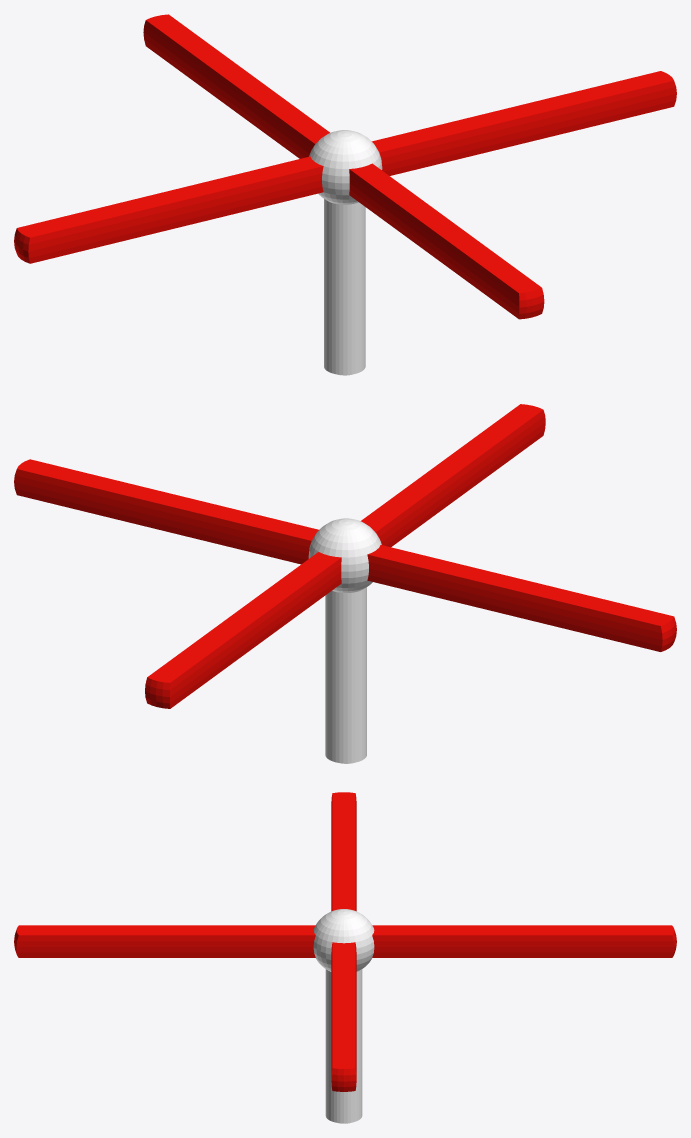
The model's file is lazer (2).fbx.
3 views of the same model, one above another, from view 1: azimuth 30°, elevation 25°; view 2: azimuth 150°, elevation 25°; view 3: azimuth 270°, elevation 25° (orthographic). The views are drawn at different scales.
Visible parts, largest first — view 1: Sphere; view 2: Sphere; view 3: Sphere.
Part boxes in pixels (x1,y1,x2,y2): Sphere: (14, 14, 676, 375); Sphere: (14, 404, 676, 763); Sphere: (14, 792, 676, 1123).
Bounding box in the file's own units: 2006 × 700 × 2014.
